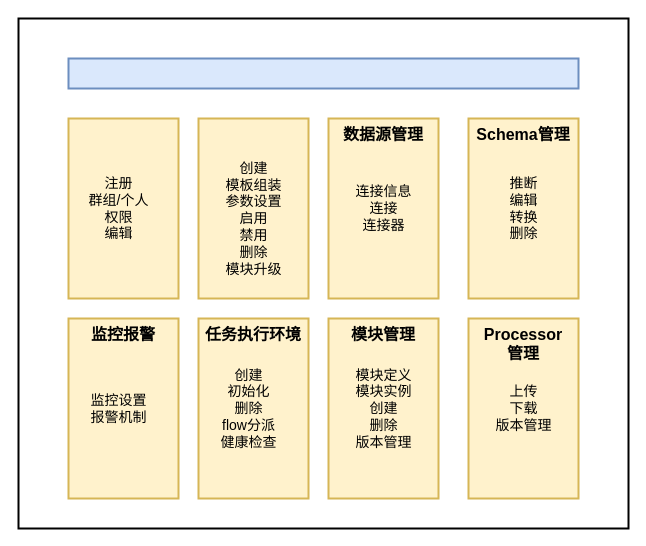
Image size: 646x546. Some labels were removed from this diagram. Each missing label, with the box of its shape:
Flow管理: (197, 117, 309, 299)
WEB UI: (67, 57, 579, 89)
用户管理: (67, 117, 179, 299)
